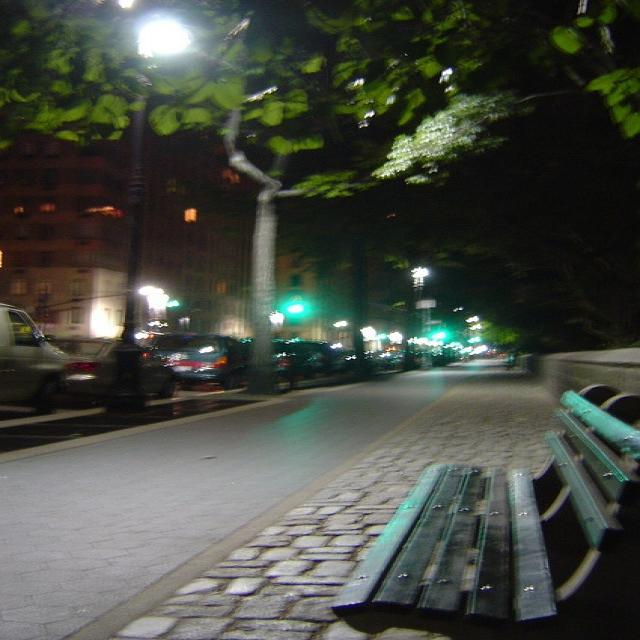car: (48, 336, 178, 401), (0, 300, 72, 417), (152, 333, 247, 389), (294, 341, 346, 374), (273, 338, 298, 388), (334, 348, 372, 371), (363, 351, 396, 369), (384, 347, 405, 367), (412, 354, 418, 367)
pole: (96, 82, 156, 414)
